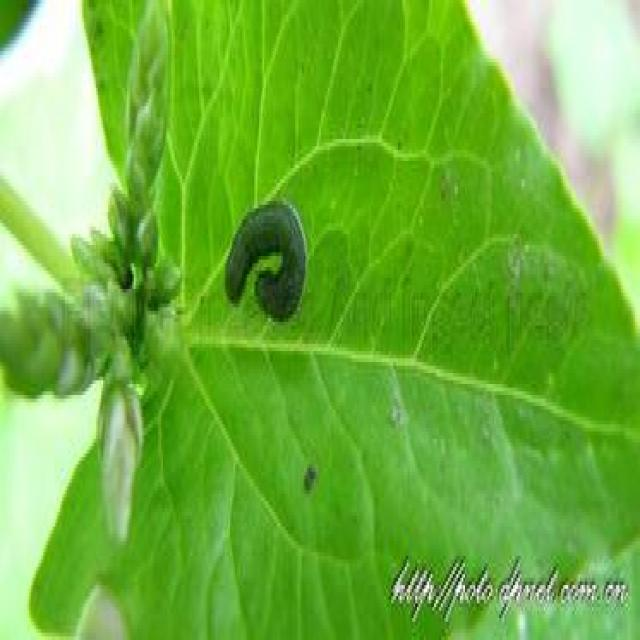BeetArmyWorm-Larva-: (217, 184, 317, 338)
